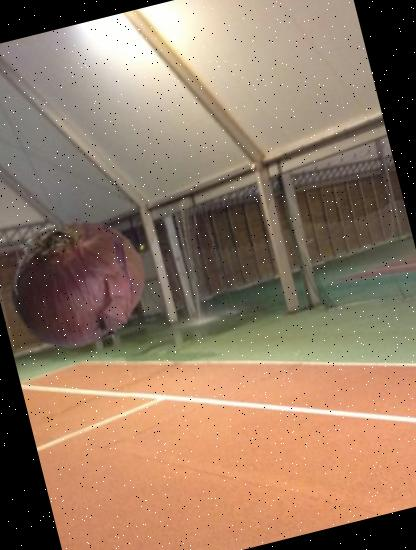Onion: (0, 192, 164, 367)
